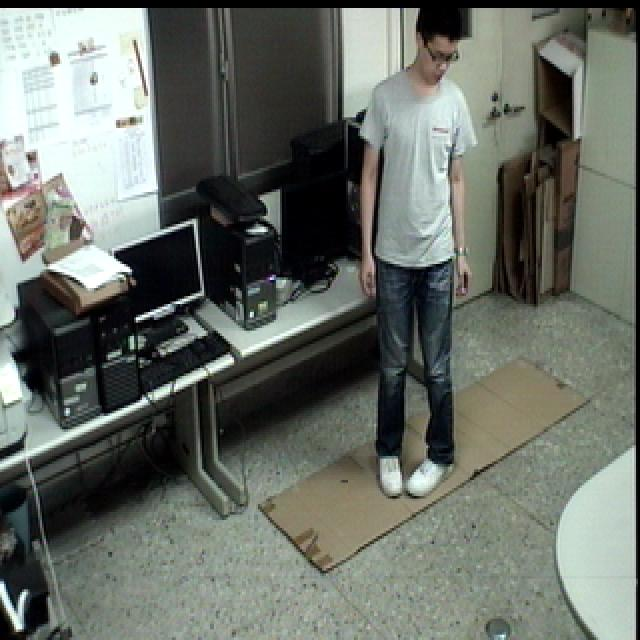stand: (359, 0, 478, 506)
